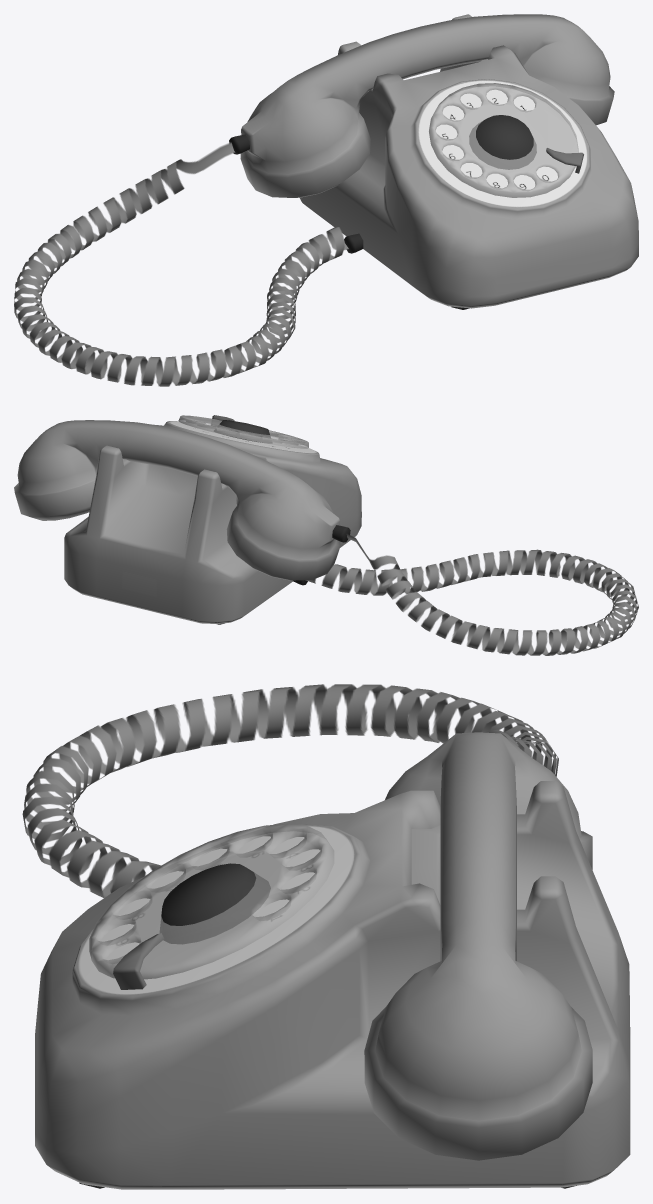
The model's file is phone.glb.
The picture shows the model from 3 angles, top to bottom: view 1: azimuth 30°, elevation 25°; view 2: azimuth 150°, elevation 25°; view 3: azimuth 270°, elevation 25°; orthographic projection. The views are drawn at different scales.
Visible parts, largest first — view 1: Phone, Handset, Cord, Dial; view 2: Phone, Handset, Cord, Dial; view 3: Phone, Handset, Cord, Dial.
Part boxes in pixels (x1,y1,x2,y2): Phone: (299,14,638,309); Handset: (229,14,614,197); Cord: (14,142,348,386); Dial: (429,83,578,197); Phone: (64,415,361,624); Handset: (14,420,350,580); Cord: (305,533,638,655); Dial: (178,415,308,448); Phone: (35,781,630,1189); Handset: (364,732,592,1160); Cord: (22,684,558,897); Dial: (89,823,334,979).
Bounding box in the file's own units: 0.4935 × 0.1327 × 0.2365.
Materials: 2 (2 with a texture image).
